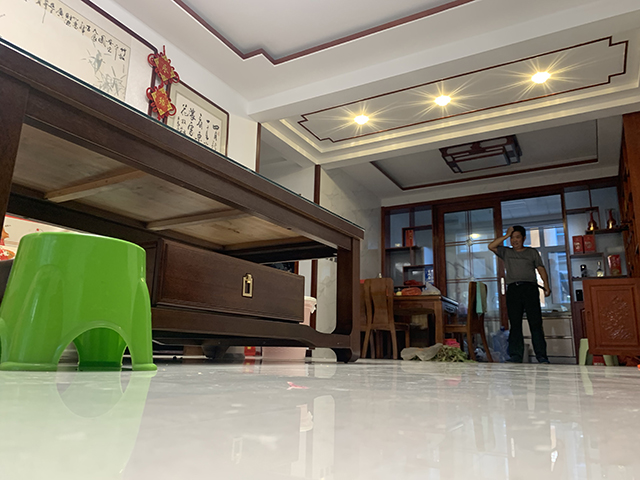cabinet: (581, 111, 640, 357), (523, 313, 574, 364)
stool: (2, 230, 159, 372), (358, 276, 412, 360), (444, 280, 494, 363), (576, 337, 619, 367)
table: (1, 37, 365, 362), (394, 292, 463, 353)
trashcan: (261, 294, 317, 363)
